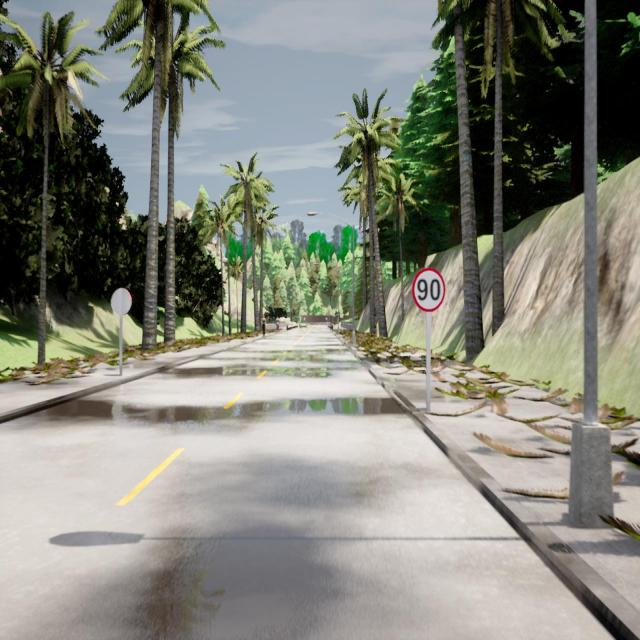Pedestrian: (261, 314, 267, 337), (275, 316, 280, 332)
Traffic_Signs: (412, 268, 446, 313), (110, 288, 132, 316), (325, 317, 328, 320), (303, 317, 306, 320)
Vehicle: (298, 320, 309, 329)
